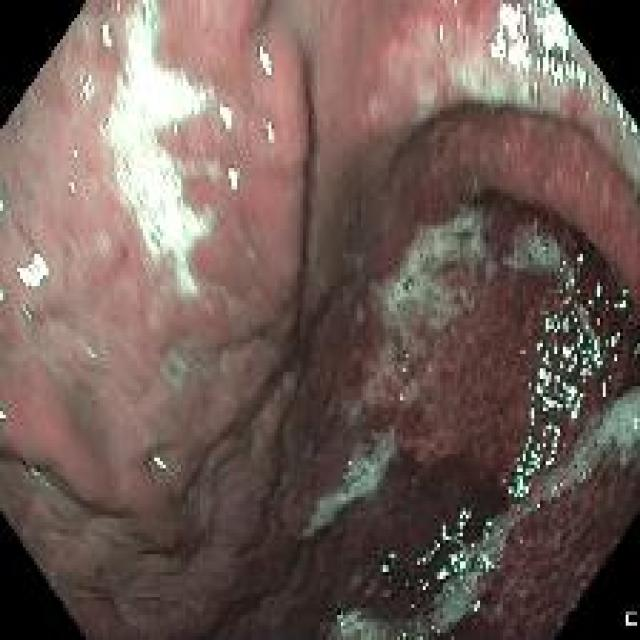bubbles: (107, 0, 211, 300), (512, 381, 638, 510), (377, 210, 488, 345), (565, 35, 638, 198), (303, 429, 396, 533), (436, 504, 527, 599), (328, 595, 494, 636), (483, 52, 572, 125), (503, 219, 572, 279), (444, 47, 488, 103), (395, 378, 422, 410), (524, 81, 545, 107), (18, 302, 35, 323)
specularity: (503, 248, 628, 500), (110, 0, 211, 311), (487, 1, 637, 136), (414, 504, 507, 590), (568, 59, 616, 107), (15, 249, 48, 294), (612, 97, 638, 144), (251, 37, 277, 83), (75, 65, 97, 109), (219, 161, 243, 197), (213, 103, 237, 135), (94, 17, 115, 52), (261, 113, 279, 147), (147, 442, 166, 472), (393, 623, 424, 639), (378, 552, 395, 575), (335, 613, 345, 638), (470, 595, 483, 614), (551, 481, 564, 496), (436, 24, 446, 43), (0, 192, 7, 218), (66, 180, 79, 194), (0, 406, 9, 426), (580, 470, 593, 483), (408, 601, 419, 613), (396, 391, 406, 404), (399, 365, 410, 375), (70, 146, 76, 157)
